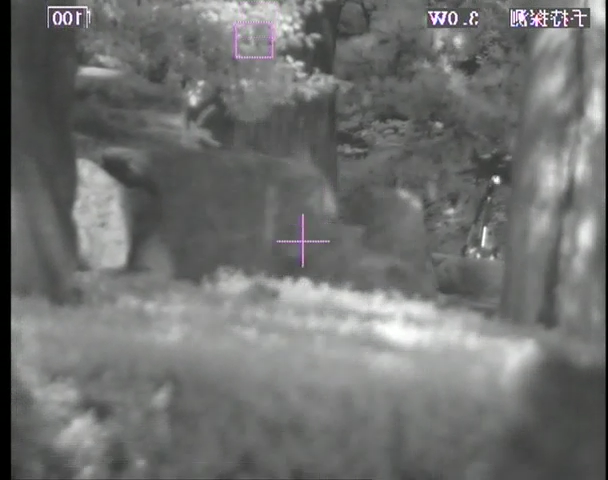my: (491, 175, 501, 186)
